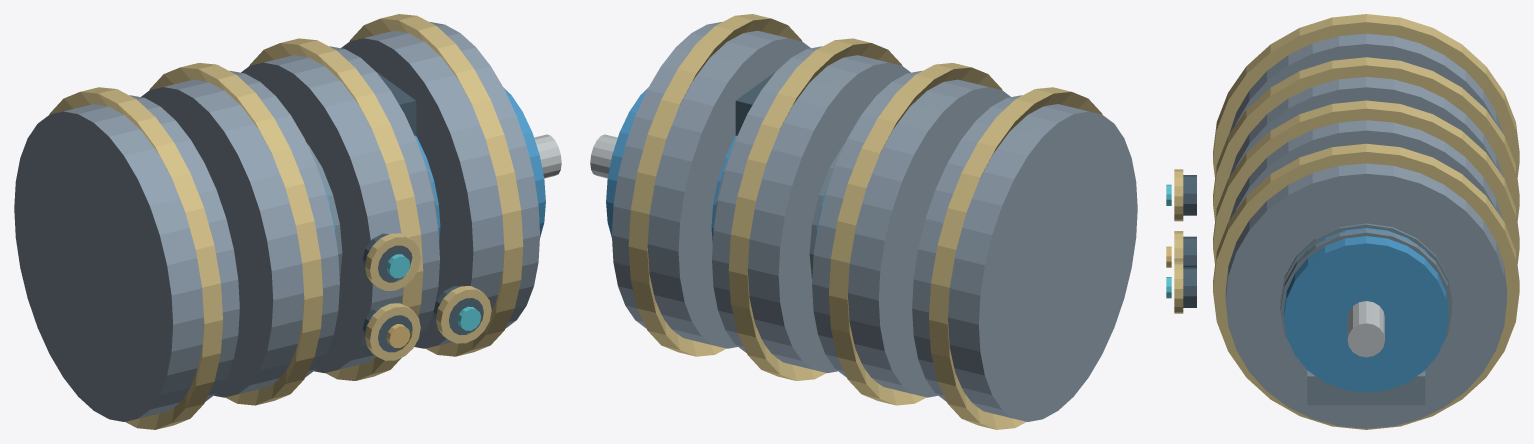
The model's file is 07_L83_SolarWingPortHingeAssembly.glb.
3 views of the same model, side by side, from view 1: azimuth 30°, elevation 25°; view 2: azimuth 150°, elevation 25°; view 3: azimuth 270°, elevation 25° (orthographic). The views are drawn at different scales.
Parts seen in each view (by area): view 1: SolarWingPortHingeAssembly_Node_0006, SolarWingPortHingeAssembly_Node_0004, SolarWingPortHingeAssembly_Node_0000, SolarWingPortHingeAssembly_Node_0002, SolarWingPortHingeAssembly_Node_0007, SolarWingPortHingeAssembly_Node_0005, SolarWingPortHingeAssembly_Node_0001, SolarWingPortHingeAssembly_Node_0003, SolarWingPortHingeAssembly_Node_0008, SolarWingPortHingeAssembly_Node_0028, SolarWingPortHingeAssembly_Node_0025, SolarWingPortHingeAssembly_Node_0031 (+6 smaller); view 2: SolarWingPortHingeAssembly_Node_0006, SolarWingPortHingeAssembly_Node_0004, SolarWingPortHingeAssembly_Node_0002, SolarWingPortHingeAssembly_Node_0000, SolarWingPortHingeAssembly_Node_0001, SolarWingPortHingeAssembly_Node_0007, SolarWingPortHingeAssembly_Node_0003, SolarWingPortHingeAssembly_Node_0005, SolarWingPortHingeAssembly_Node_0008, SolarWingPortHingeAssembly_Node_0020, SolarWingPortHingeAssembly_Node_0023, SolarWingPortHingeAssembly_Node_0009; view 3: SolarWingPortHingeAssembly_Node_0000, SolarWingPortHingeAssembly_Node_0008, SolarWingPortHingeAssembly_Node_0001, SolarWingPortHingeAssembly_Node_0007, SolarWingPortHingeAssembly_Node_0003, SolarWingPortHingeAssembly_Node_0005, SolarWingPortHingeAssembly_Node_0002, SolarWingPortHingeAssembly_Node_0004, SolarWingPortHingeAssembly_Node_0006, SolarWingPortHingeAssembly_Node_0022, SolarWingPortHingeAssembly_Node_0020, SolarWingPortHingeAssembly_Node_0019 (+6 smaller).
Part boxes in pixels (box(x1,y1,x2,y2)): SolarWingPortHingeAssembly_Node_0006: box(14, 95, 239, 421); SolarWingPortHingeAssembly_Node_0004: box(141, 70, 339, 397); SolarWingPortHingeAssembly_Node_0000: box(341, 22, 539, 348); SolarWingPortHingeAssembly_Node_0002: box(241, 46, 439, 373); SolarWingPortHingeAssembly_Node_0007: box(49, 87, 222, 429); SolarWingPortHingeAssembly_Node_0005: box(149, 63, 323, 405); SolarWingPortHingeAssembly_Node_0001: box(350, 14, 523, 356); SolarWingPortHingeAssembly_Node_0003: box(249, 38, 423, 380); SolarWingPortHingeAssembly_Node_0008: box(322, 87, 545, 242); SolarWingPortHingeAssembly_Node_0028: box(436, 286, 491, 343); SolarWingPortHingeAssembly_Node_0025: box(365, 303, 420, 360); SolarWingPortHingeAssembly_Node_0031: box(365, 233, 420, 290); SolarWingPortHingeAssembly_Node_0006: box(912, 95, 1137, 421); SolarWingPortHingeAssembly_Node_0004: box(812, 70, 1010, 397); SolarWingPortHingeAssembly_Node_0002: box(712, 46, 910, 373); SolarWingPortHingeAssembly_Node_0000: box(612, 22, 810, 348); SolarWingPortHingeAssembly_Node_0001: box(628, 14, 801, 356); SolarWingPortHingeAssembly_Node_0007: box(929, 87, 1102, 429); SolarWingPortHingeAssembly_Node_0003: box(728, 38, 902, 380); SolarWingPortHingeAssembly_Node_0005: box(828, 63, 1002, 405); SolarWingPortHingeAssembly_Node_0008: box(606, 87, 829, 242); SolarWingPortHingeAssembly_Node_0020: box(590, 134, 617, 178); SolarWingPortHingeAssembly_Node_0023: box(735, 71, 776, 135); SolarWingPortHingeAssembly_Node_0009: box(809, 143, 844, 278); SolarWingPortHingeAssembly_Node_0000: box(1225, 163, 1506, 428); SolarWingPortHingeAssembly_Node_0008: box(1284, 228, 1448, 392); SolarWingPortHingeAssembly_Node_0001: box(1213, 143, 1519, 429); SolarWingPortHingeAssembly_Node_0007: box(1213, 14, 1519, 177); SolarWingPortHingeAssembly_Node_0003: box(1213, 100, 1519, 263); SolarWingPortHingeAssembly_Node_0005: box(1213, 57, 1519, 220); SolarWingPortHingeAssembly_Node_0002: box(1229, 120, 1503, 220); SolarWingPortHingeAssembly_Node_0004: box(1229, 77, 1503, 177); SolarWingPortHingeAssembly_Node_0006: box(1229, 33, 1503, 133); SolarWingPortHingeAssembly_Node_0022: box(1307, 370, 1425, 405); SolarWingPortHingeAssembly_Node_0020: box(1347, 301, 1384, 357); SolarWingPortHingeAssembly_Node_0019: box(1280, 229, 1452, 342).
Bounding box in the file's own units: 1.1 × 0.72 × 0.8295.
